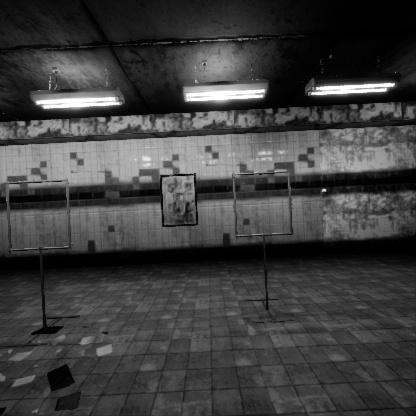gate: (6, 163, 77, 237), (232, 177, 298, 245)
